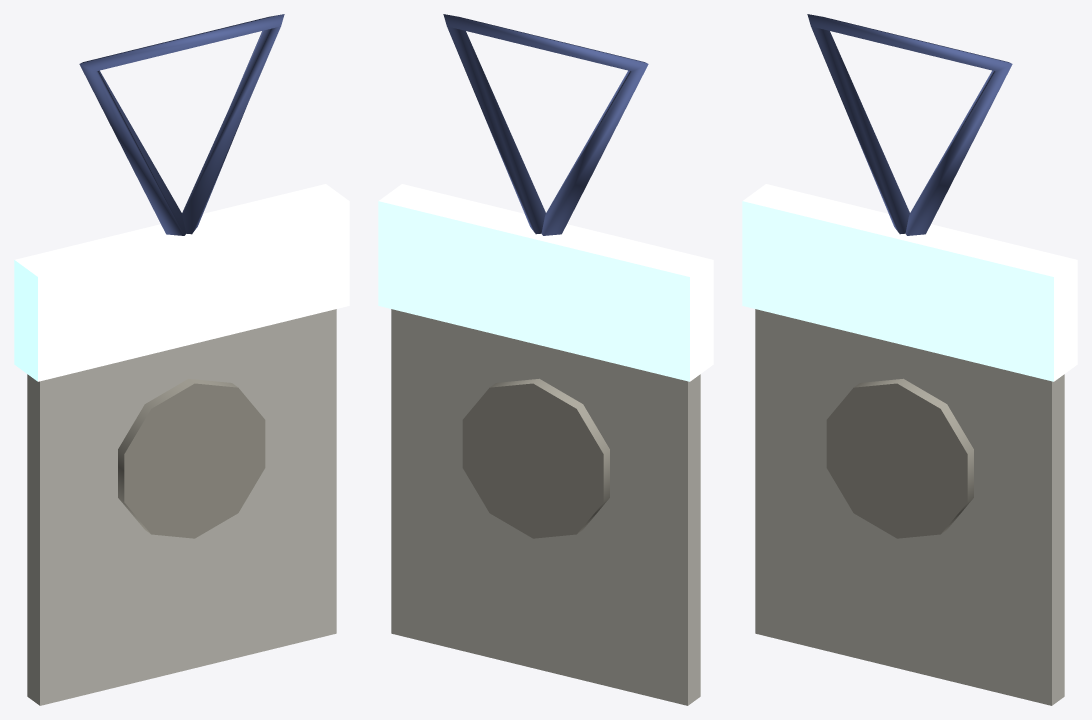
Rendered from item_badge.glb.
3 views of the same model, side by side, from view 1: azimuth 30°, elevation 25°; view 2: azimuth 150°, elevation 25°; view 3: azimuth 330°, elevation 25° (orthographic).
Visible parts, largest first — view 1: item_badge; view 2: item_badge; view 3: item_badge.
Boxes of the visible parts, x1,y1,x2,y2 form: item_badge: [14, 14, 349, 705]; item_badge: [378, 14, 713, 705]; item_badge: [742, 14, 1077, 705].
Bounding box in the file's own units: 0.168 × 0.3227 × 0.024.
